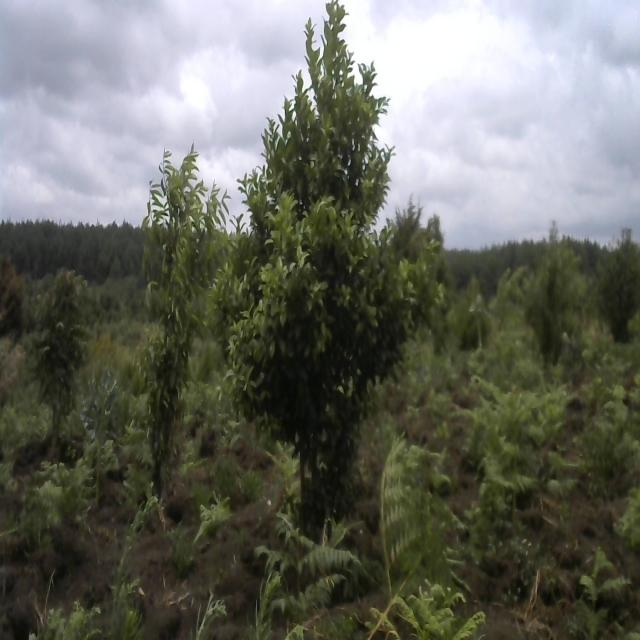Syzygium gineense: (236, 0, 420, 587), (138, 124, 232, 498), (32, 265, 86, 433)
cedrus: (521, 216, 591, 356), (591, 237, 640, 360)
